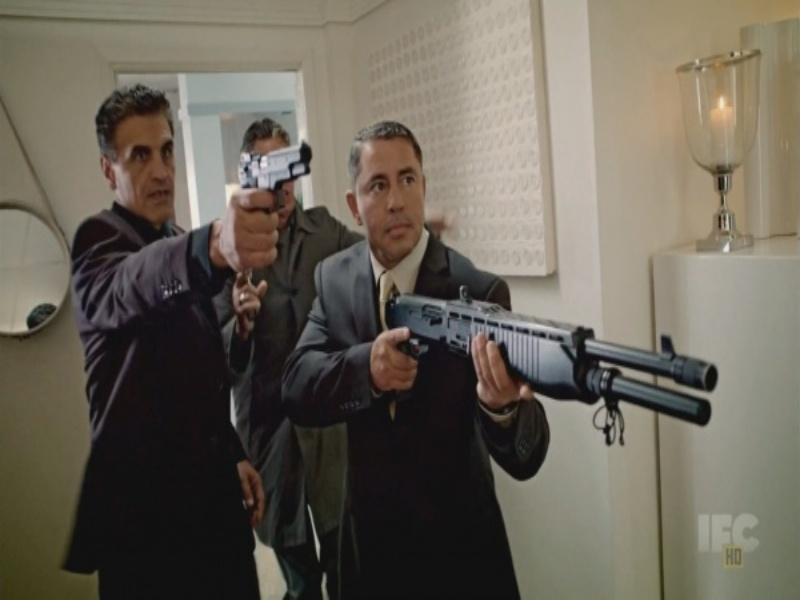person: (285, 120, 550, 596), (65, 80, 263, 600), (231, 121, 355, 599)
weapon: (386, 282, 705, 441), (235, 142, 317, 197)
